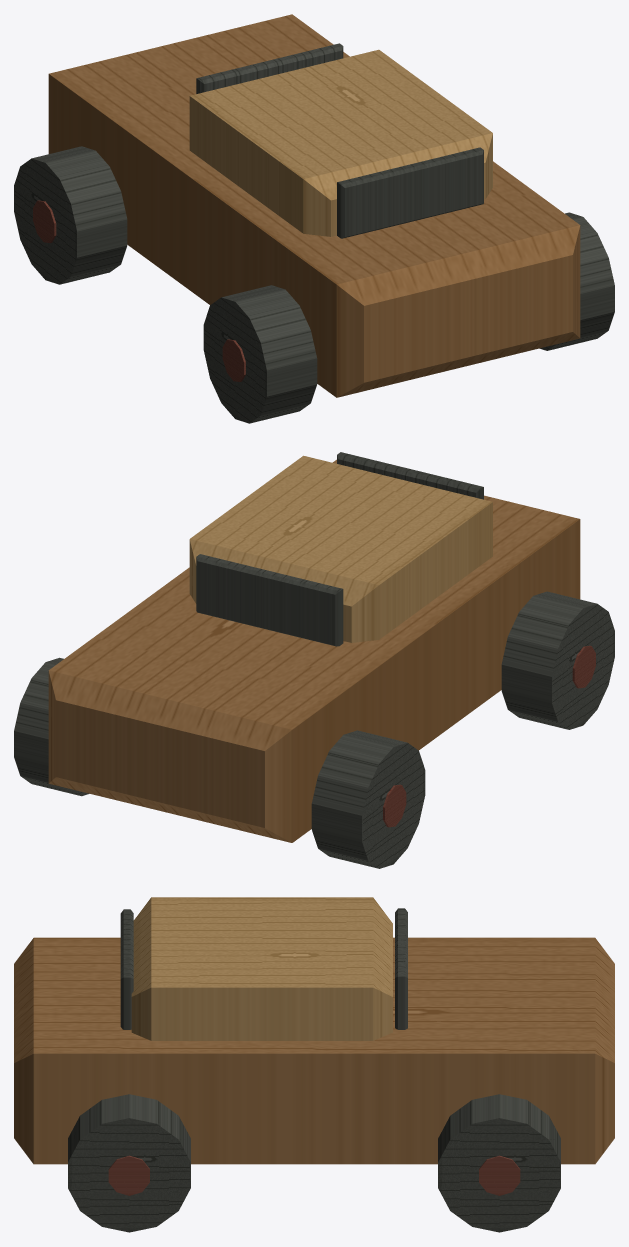
The model's file is WoodenCar.fbx.
3 renders of one model, top to bottom at view 1: azimuth 30°, elevation 25°; view 2: azimuth 150°, elevation 25°; view 3: azimuth 270°, elevation 25°, orthographic. The views are drawn at different scales.
Visible parts, largest first — view 1: Body__Timber.001, Body__TimberLight.001, WheelPivot_RL__TimberDark, WheelPivot_FL__TimberDark, Body__TimberDark.001, WheelPivot_RR__TimberDark, WheelPivot_FL__Brass, WheelPivot_RL__Brass; view 2: Body__Timber.001, Body__TimberLight.001, WheelPivot_FL__TimberDark, WheelPivot_RL__TimberDark, Body__TimberDark.001, WheelPivot_FR__TimberDark, WheelPivot_RL__Brass, WheelPivot_FL__Brass; view 3: Body__Timber.001, Body__TimberLight.001, WheelPivot_FR__TimberDark, WheelPivot_RR__TimberDark, Body__TimberDark.001, WheelPivot_FR__Brass, WheelPivot_RR__Brass.
Boxes of the visible parts, x1,y1,x2,y2 form: Body__Timber.001: (48,14,580,397); Body__TimberLight.001: (189,49,492,236); WheelPivot_RL__TimberDark: (203,285,317,423); WheelPivot_FL__TimberDark: (14,146,127,284); Body__TimberDark.001: (196,43,483,238); WheelPivot_RR__TimberDark: (539,212,614,350); WheelPivot_FL__Brass: (33,200,56,243); WheelPivot_RL__Brass: (222,339,245,381); Body__Timber.001: (48,459,580,842); Body__TimberLight.001: (189,455,492,642); WheelPivot_FL__TimberDark: (311,730,425,868); WheelPivot_RL__TimberDark: (501,591,614,729); Body__TimberDark.001: (196,452,483,646); WheelPivot_FR__TimberDark: (14,657,89,796); WheelPivot_RL__Brass: (572,645,595,688); WheelPivot_FL__Brass: (383,784,406,827); Body__Timber.001: (14,937,614,1164); Body__TimberLight.001: (131,897,392,1040); WheelPivot_FR__TimberDark: (438,1094,560,1232); WheelPivot_RR__TimberDark: (68,1094,190,1232); Body__TimberDark.001: (120,908,407,1029); WheelPivot_FR__Brass: (479,1155,520,1195); WheelPivot_RR__Brass: (108,1155,149,1195).
Bounding box in the file's own units: 0.182 × 0.105 × 0.276.
Materials: 1 (1 with a texture image).
